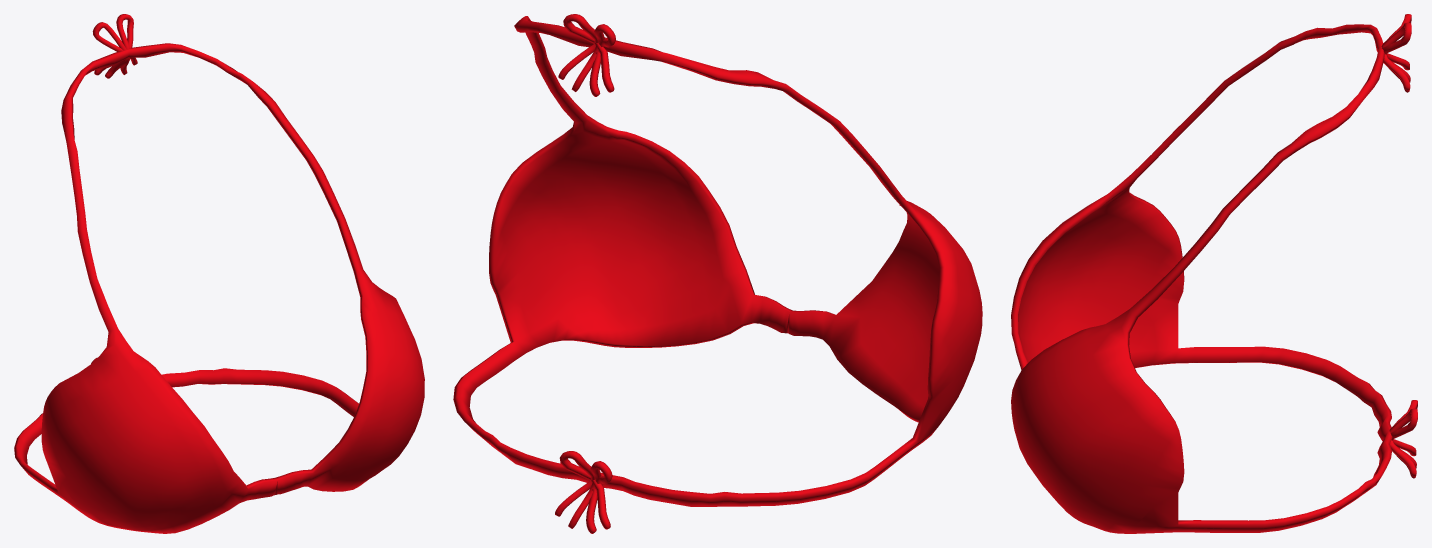
Rendered from bra_Set_2.fbx.
3 renders of one model, left to right at view 1: azimuth 30°, elevation 25°; view 2: azimuth 150°, elevation 25°; view 3: azimuth 270°, elevation 25°, orthographic. The views are drawn at different scales.
Visible parts, largest first — view 1: Bra2; view 2: Bra2; view 3: Bra2.
Boxes of the visible parts, x1=… form: Bra2: x1=14, y1=14, x2=424, y2=533; Bra2: x1=453, y1=14, x2=982, y2=533; Bra2: x1=1011, y1=14, x2=1417, y2=533.
Size of the model in its own units: 20.28 by 21.84 by 17.71.
